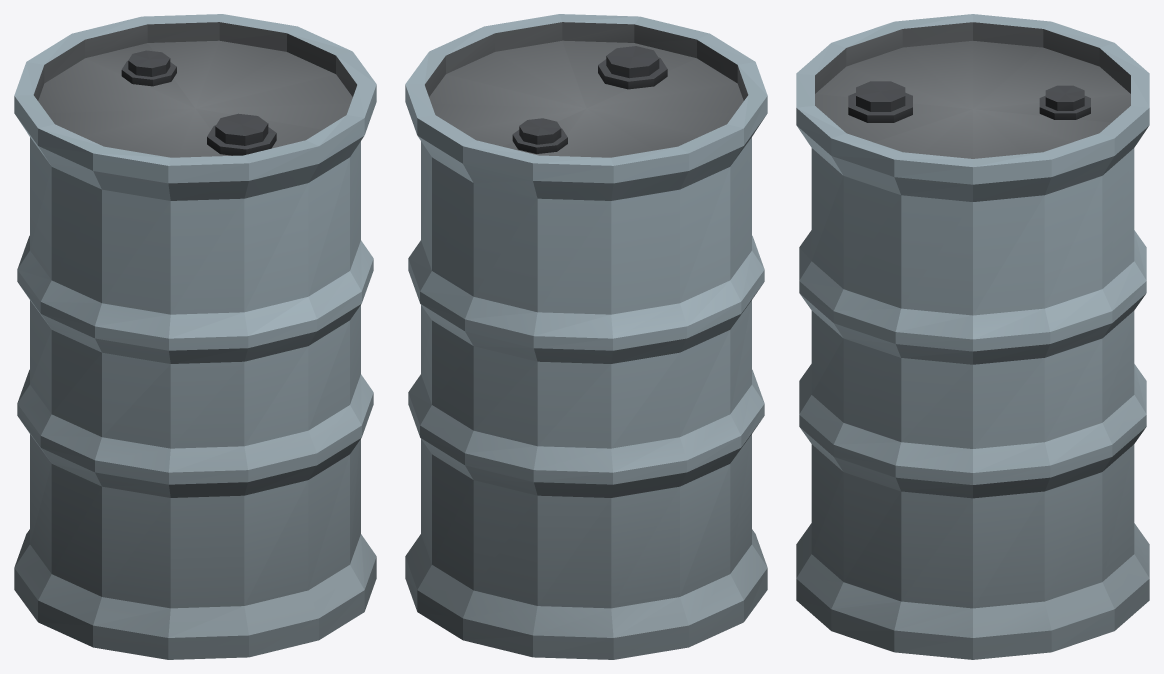
Rendered from pdrum.glb.
3 views of the same model, side by side, from view 1: azimuth 30°, elevation 25°; view 2: azimuth 150°, elevation 25°; view 3: azimuth 270°, elevation 25° (orthographic).
Visible parts, largest first — view 1: pdrum; view 2: pdrum; view 3: pdrum.
Part boxes in pixels (<box>): pdrum: <box>14,14,376,659</box>; pdrum: <box>405,14,767,659</box>; pdrum: <box>796,14,1149,659</box>.
Bounding box in the file's own units: 0.66 × 0.99 × 0.6435.
